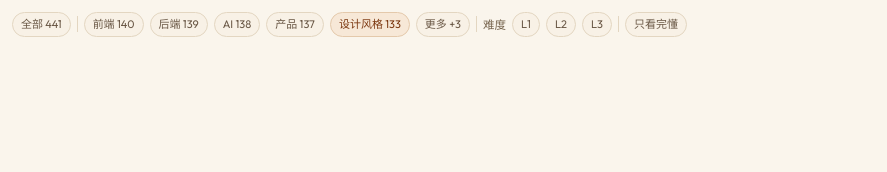
Scenario: TERMVIEW-01 · 筛选条三段各管各的维度 › ⚠️ 领域 chip 超量折叠，且选中的那个永远补在末尾（筛完的项被藏起来 = 用户以为筛没了）
Expected: the button "前端 140" is shown, [84, 12, 144, 37]
Expected: the button "产品 137" is shown, [266, 12, 324, 37]
Click the button "更多 +3" at (443, 24), box [416, 12, 470, 37]
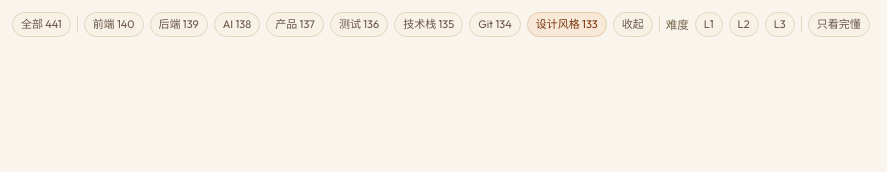
Now the button "技术栈 135" is shown, box [394, 12, 463, 37]
Now the button "Git 134" is shown, box [469, 12, 521, 37]
